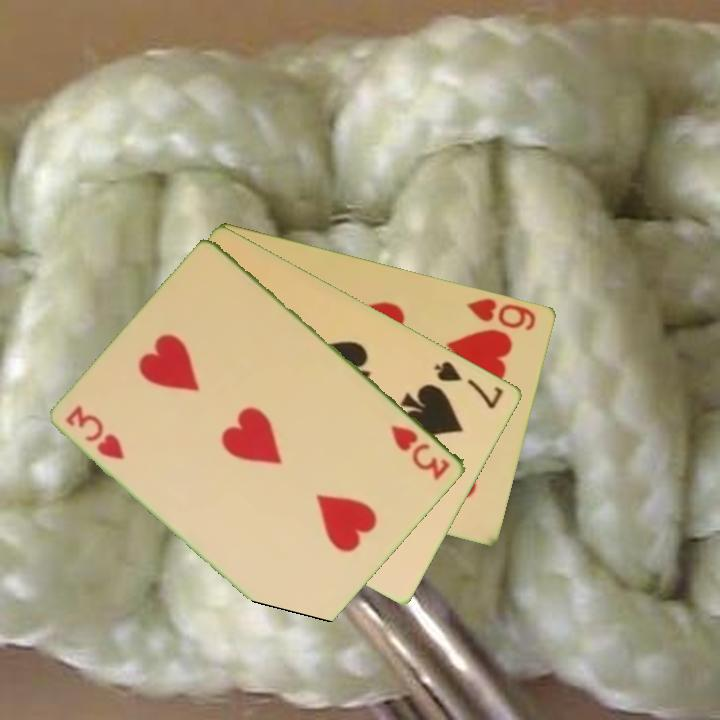3h: (388, 421, 454, 484), (62, 402, 128, 463)
6h: (464, 294, 540, 333)
7s: (431, 357, 507, 412)
